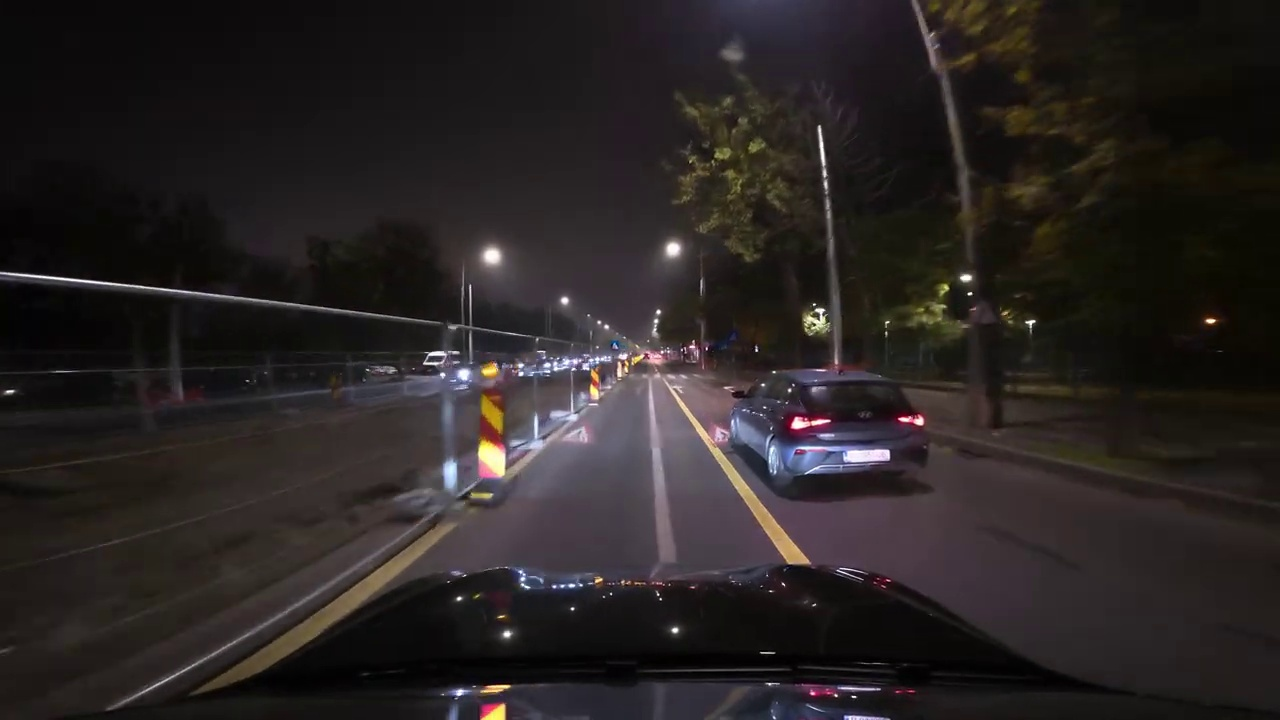acesa: (478, 243, 505, 270), (659, 236, 685, 263), (555, 291, 575, 314)
